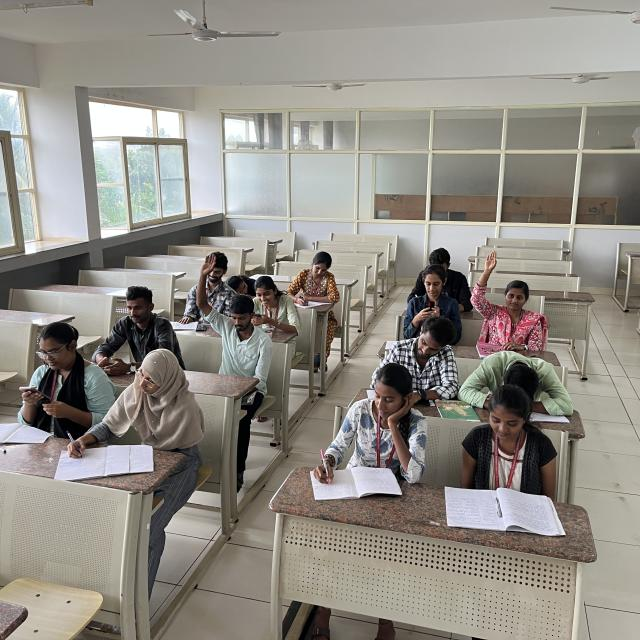Hand Rising: (472, 250, 552, 353), (197, 252, 260, 364)
Reading: (441, 384, 566, 535)
Sleeping: (454, 347, 584, 424)
Using Phone: (16, 314, 102, 428), (90, 282, 182, 374), (399, 264, 463, 336), (245, 272, 311, 339)
Writing: (61, 341, 194, 465), (307, 360, 427, 486), (364, 317, 462, 397), (280, 246, 343, 310)
